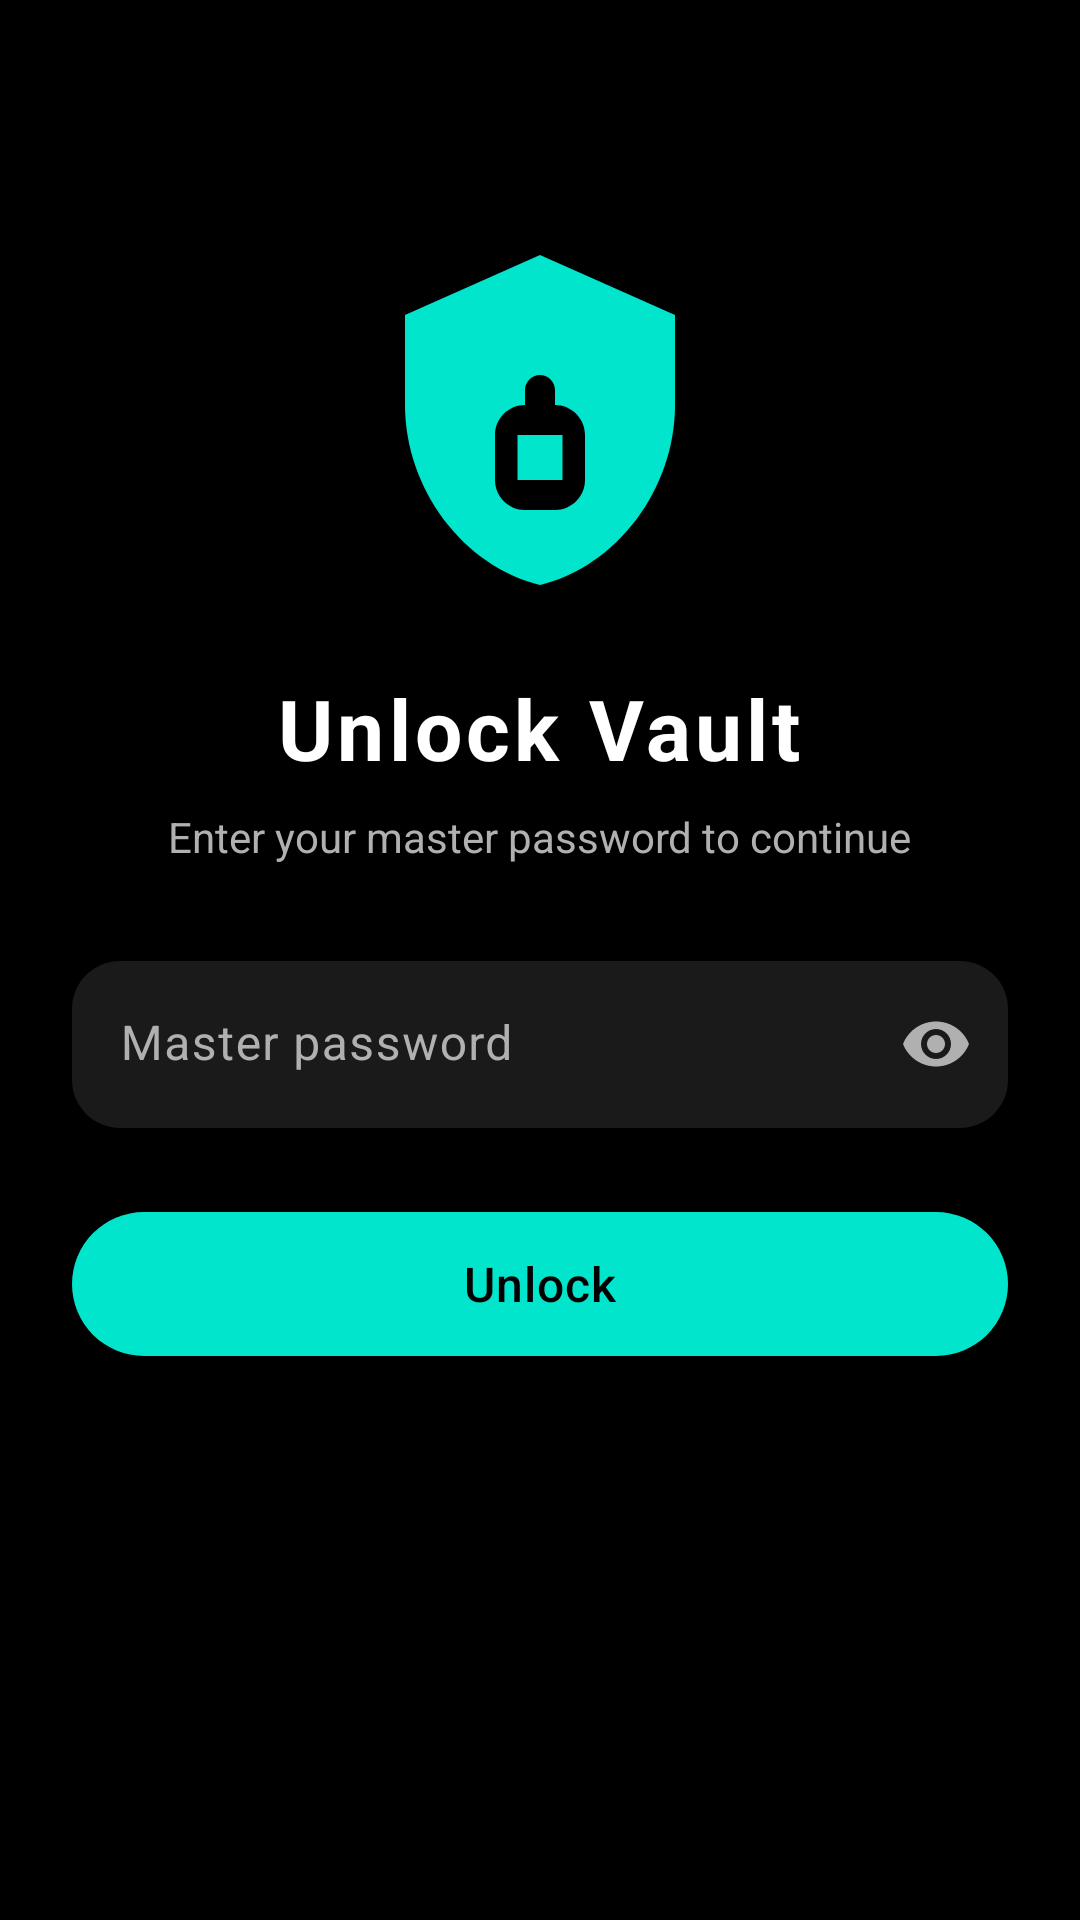

Where to tap for icons on this 1080x1920 app screen, as (x=x, y=y):
shield: (x=540, y=420)
